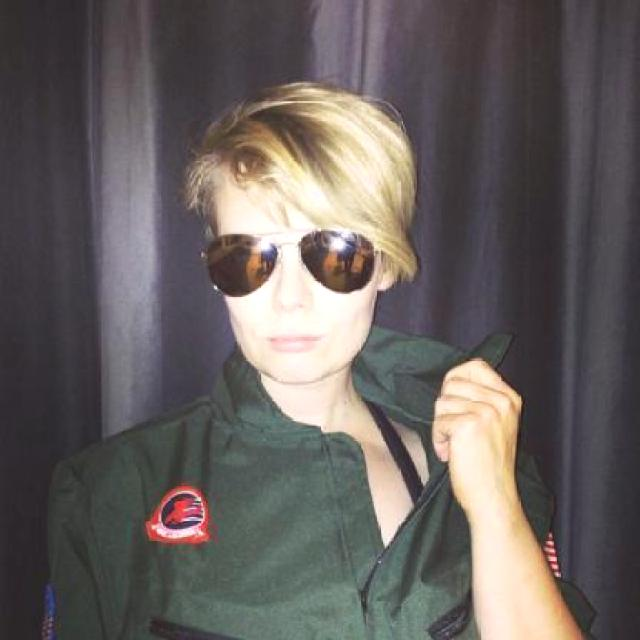face_nomask: (214, 224, 361, 359)
glasses: (197, 222, 397, 296)
hand_noglove: (422, 351, 530, 504)
head_nohelmet: (183, 93, 408, 205)
person: (38, 72, 584, 640)
